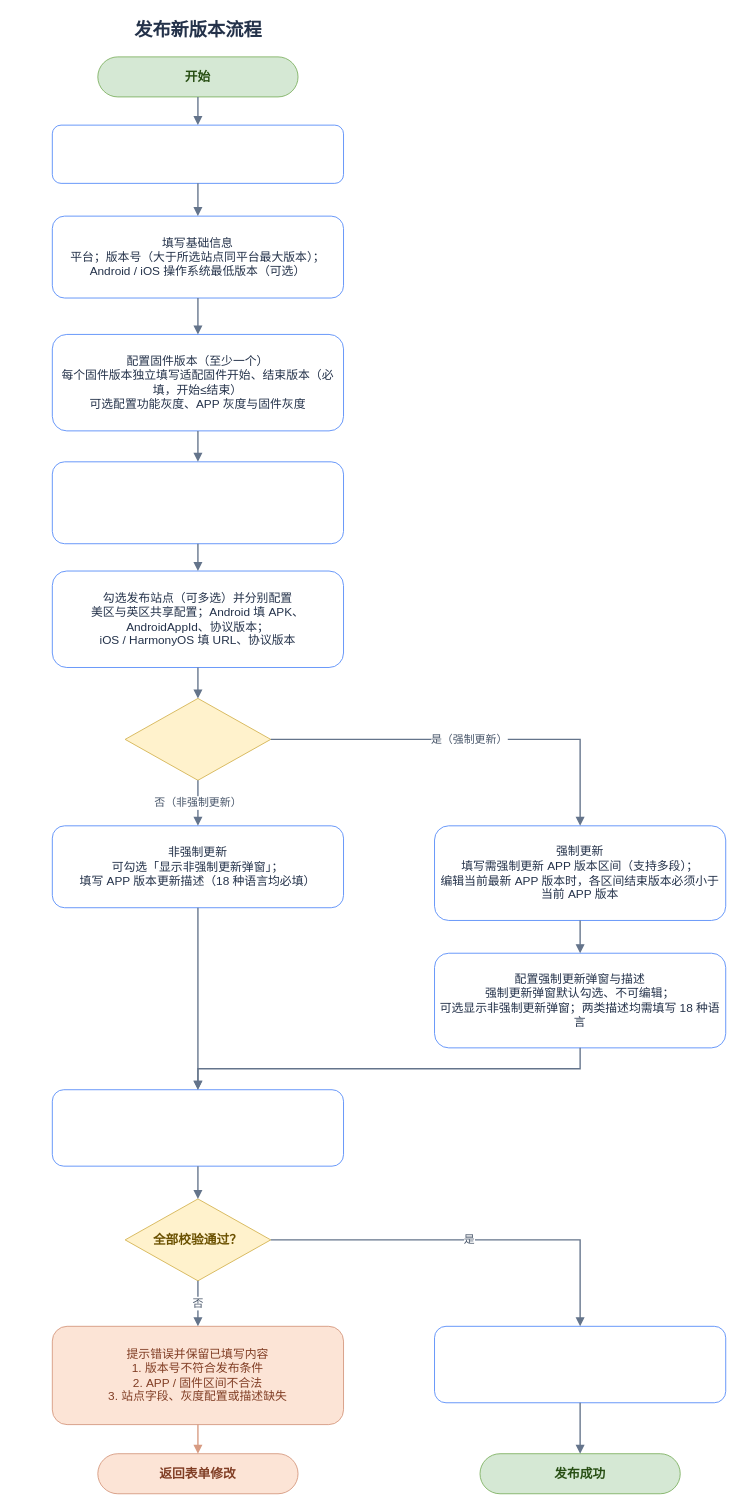
This 742x1510 diagram has some shape labels left out. Each missing label, with the centre of its shape:
"固件灰度开启时 填写灰度用户信息（至少一项）与灰度版本； 灰度版本必须大于适配固件结束版本" belongs at pixel 197 502.
"按所选站点创建版本记录 美区 / 英区写入共享配置；记录状态为待生效" belongs at pixel 580 1364.
"提交前统一校验 基础字段、版本及区间关系、站点配置、灰度配置、各语言描述" belongs at pixel 197 1127.
"更新方式是否为强制更新？" belongs at pixel 197 739.
"进入「发布新版本」页面" belongs at pixel 197 153.
